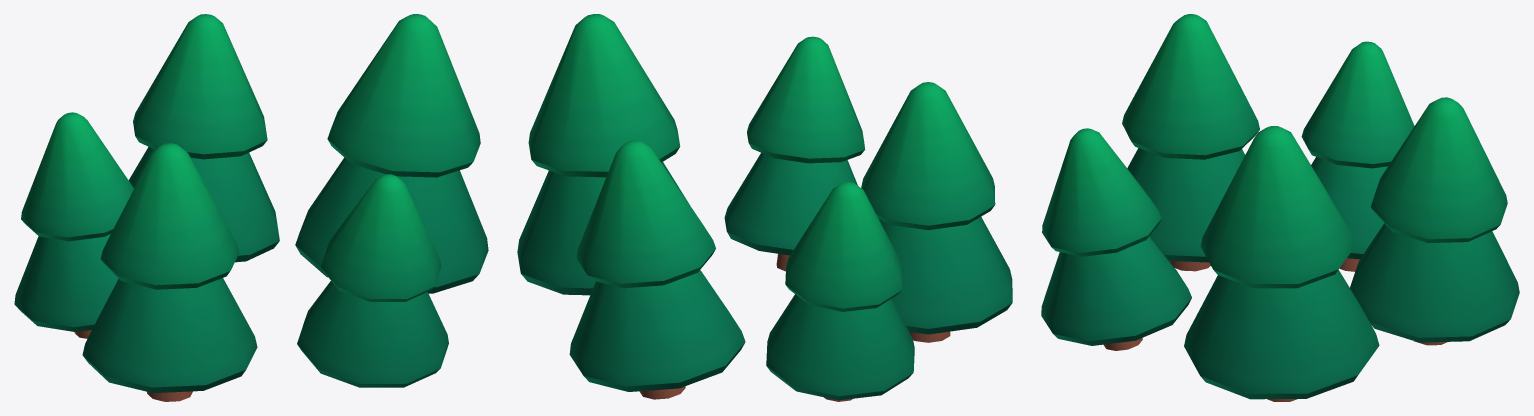
File: trees_b.glb
3 renders of one model, left to right at view 1: azimuth 30°, elevation 25°; view 2: azimuth 150°, elevation 25°; view 3: azimuth 270°, elevation 25°, orthographic.
Visible parts, largest first — view 1: trees_B_medium; view 2: trees_B_medium; view 3: trees_B_medium.
Part boxes in pixels (x1,y1,x2,y2): trees_B_medium: (14,14,488,401); trees_B_medium: (517,14,1012,401); trees_B_medium: (1041,14,1519,401).
Bounding box in the file's own units: 1.86 × 1.17 × 1.83.
Materials: 1 (1 with a texture image).
